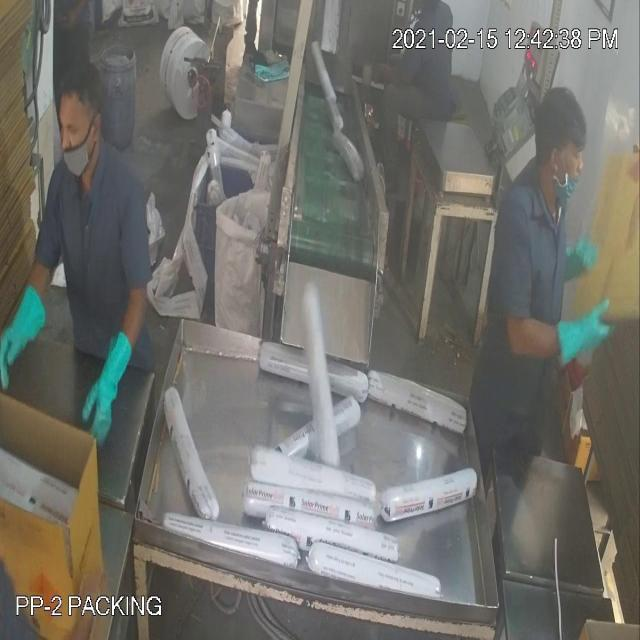gloves: (76, 321, 144, 463), (0, 291, 52, 400), (551, 296, 617, 379)
no-gloves: (372, 57, 413, 98)
